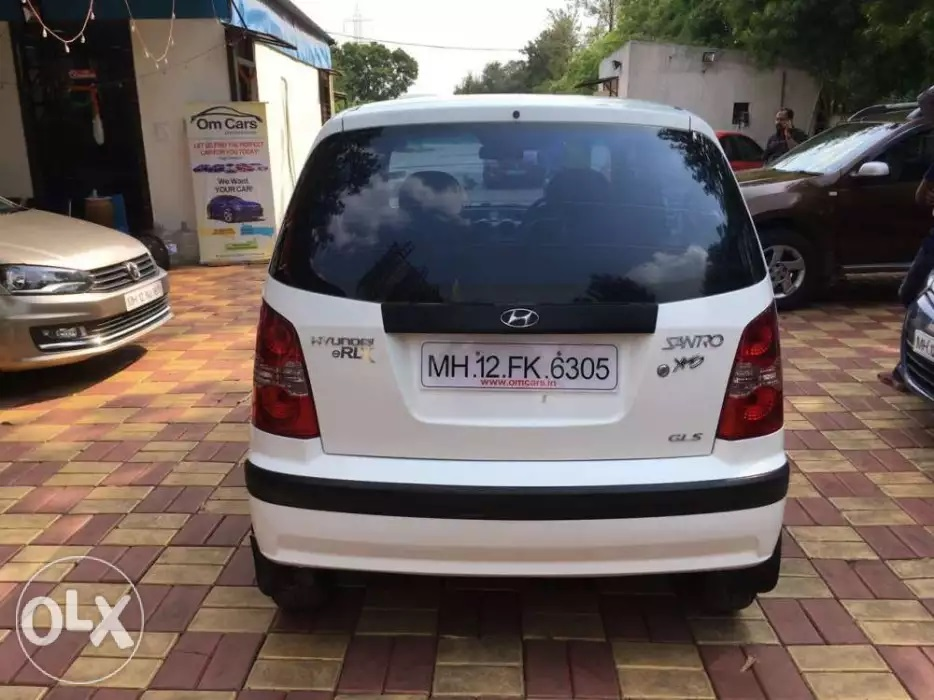licenseplate: (419, 337, 620, 396)
